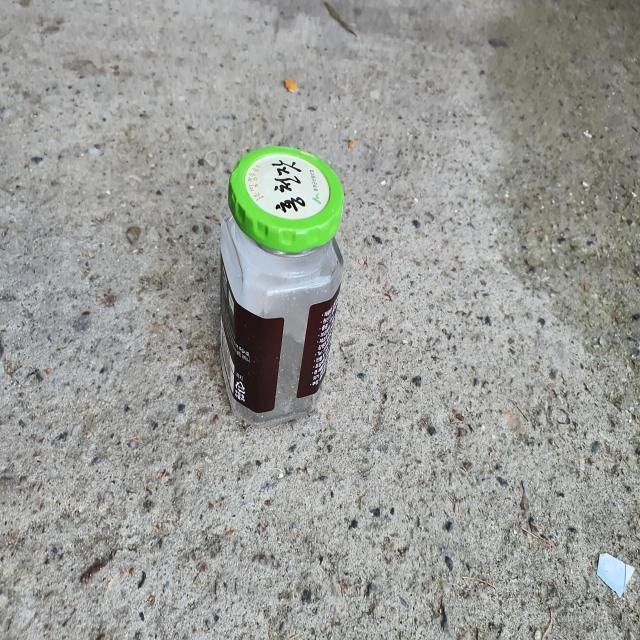glass: (220, 145, 344, 426)
